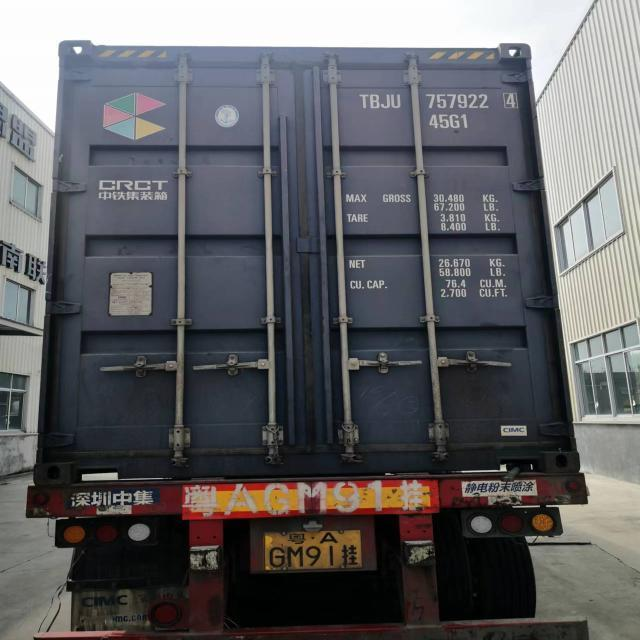ISO: (428, 114, 472, 132)
container_number: (362, 92, 521, 112)
